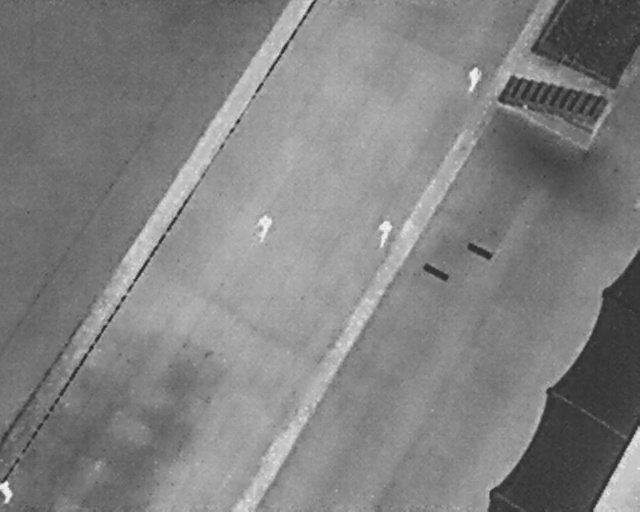Person: (252, 209, 274, 244), (463, 61, 484, 96), (376, 216, 394, 250), (0, 479, 14, 505)
